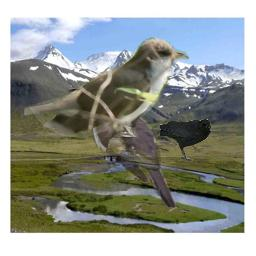Crow: (160, 119, 211, 162)
Cuckoo: (24, 37, 189, 137), (66, 80, 176, 212)
